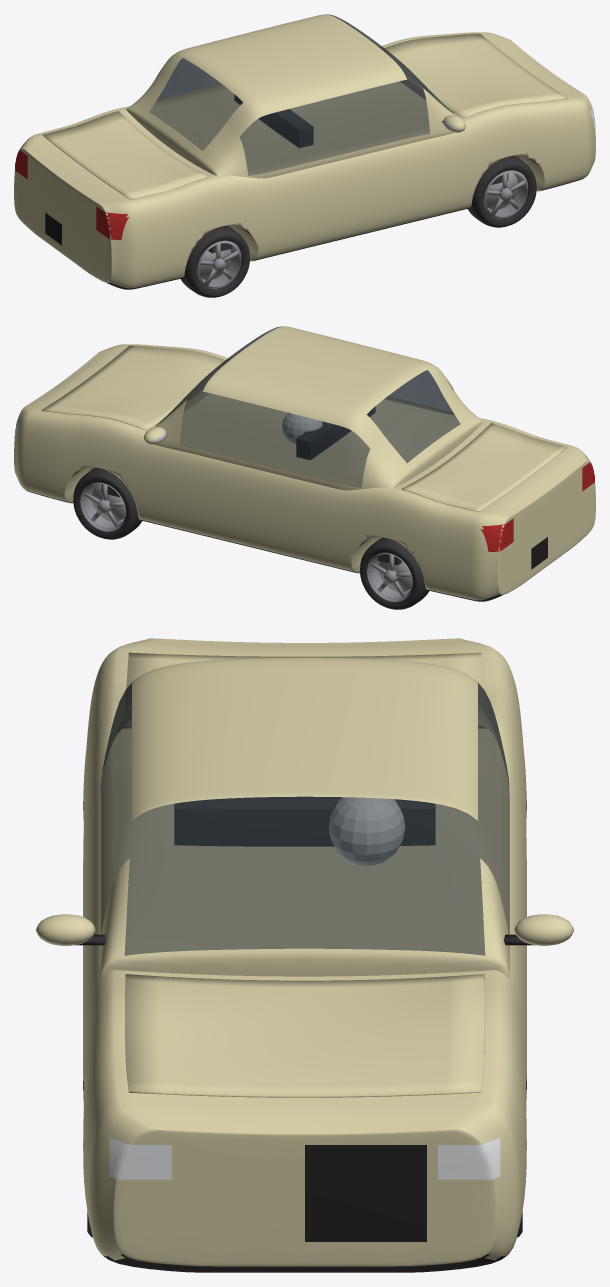
The model's file is derby_ostrava_1300.glb.
3 renders of one model, top to bottom at view 1: azimuth 30°, elevation 25°; view 2: azimuth 150°, elevation 25°; view 3: azimuth 270°, elevation 25°, orthographic. The views are drawn at different scales.
Visible parts, largest first — view 1: body, cabin, bumper_rear, bonnet, boot, wheel_fr_spin, wheel_rr_spin, bumper_front, interior; view 2: body, cabin, bumper_rear, bonnet, boot, wheel_fl_spin, wheel_rl_spin, bumper_front, interior; view 3: cabin, body, bumper_front, bonnet, interior, bumper_rear, boot, mirror_l, mirror_r.
Boxes of the visible parts, left/top/right/bottom form: body: left=37, top=32, right=576, bottom=288; cabin: left=126, top=14, right=455, bottom=178; bumper_rear: left=14, top=134, right=138, bottom=289; bonnet: left=382, top=33, right=568, bottom=118; boot: left=42, top=111, right=208, bottom=199; wheel_fr_spin: left=468, top=155, right=536, bottom=227; wheel_rr_spin: left=180, top=225, right=249, bottom=297; bumper_front: left=475, top=32, right=595, bottom=181; interior: left=234, top=94, right=313, bottom=147; body: left=33, top=344, right=572, bottom=600; cabin: left=154, top=326, right=483, bottom=490; bumper_rear: left=471, top=446, right=595, bottom=601; bonnet: left=41, top=345, right=227, bottom=430; boot: left=401, top=423, right=567, bottom=511; wheel_fl_spin: left=73, top=467, right=141, bottom=539; wheel_rl_spin: left=360, top=537, right=429, bottom=609; bumper_front: left=14, top=344, right=134, bottom=493; interior: left=282, top=406, right=375, bottom=459; cabin: left=100, top=657, right=509, bottom=978; body: left=83, top=652, right=526, bottom=1220; bumper_front: left=86, top=1089, right=523, bottom=1272; bonnet: left=125, top=974, right=484, bottom=1097; interior: left=174, top=796, right=435, bottom=865; bumper_rear: left=97, top=638, right=512, bottom=673; boot: left=126, top=652, right=483, bottom=709; mirror_l: left=503, top=914, right=573, bottom=945; mirror_r: left=36, top=914, right=106, bottom=945.
Size of the model in its own units: 4.11 by 1.42 by 1.97.
